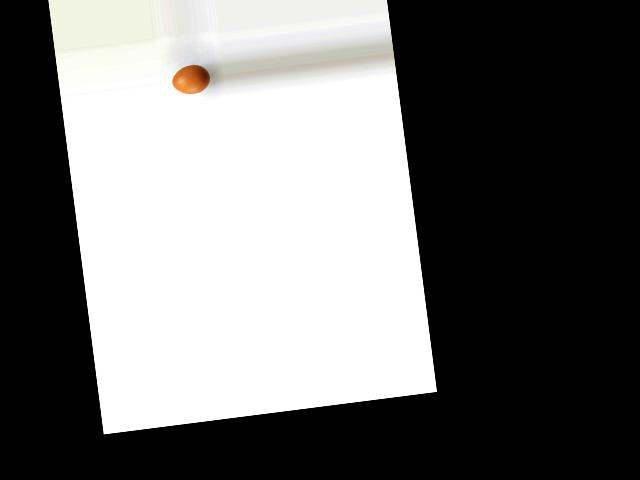egg: (170, 62, 212, 95)
